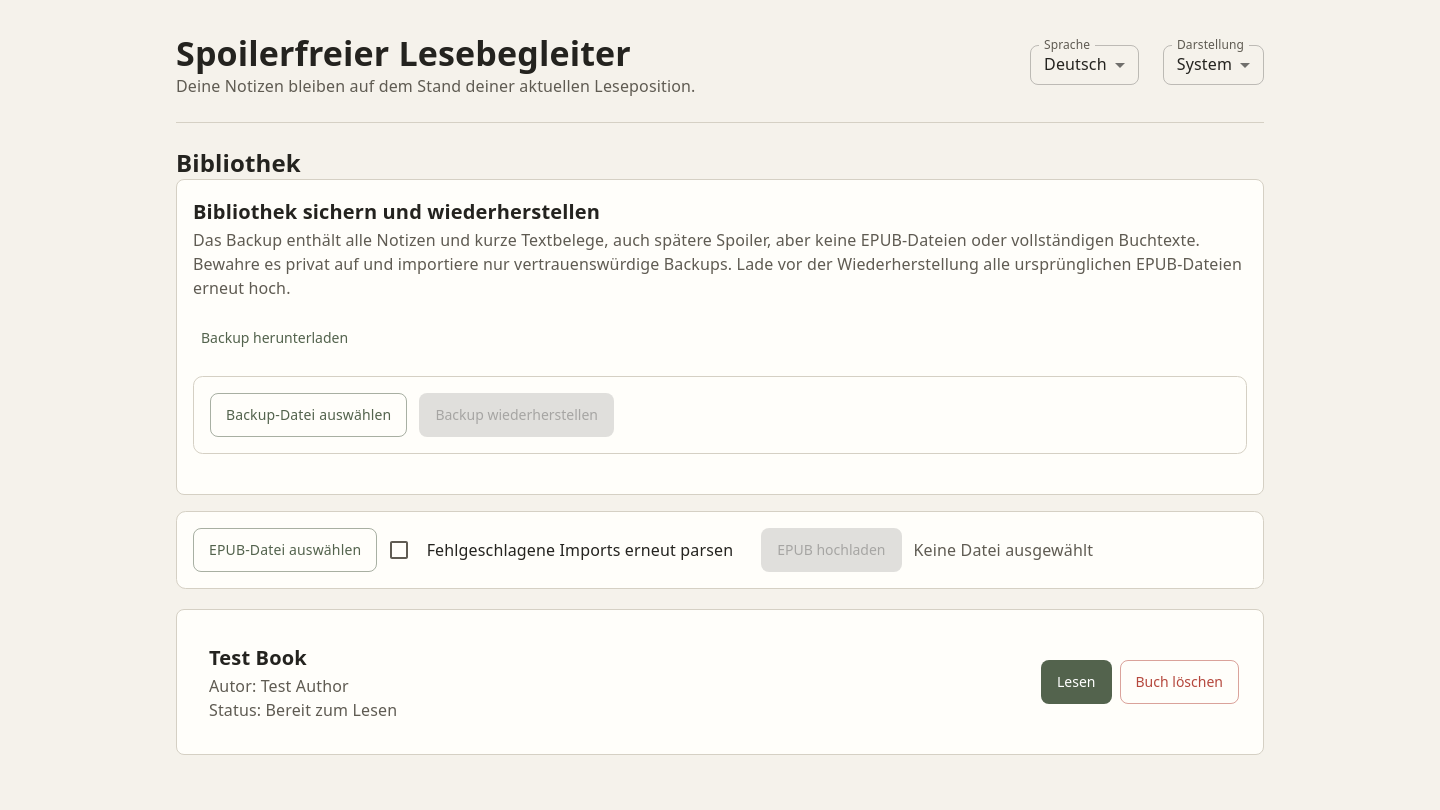
Test: App › keeps the existing library visible when a refresh fails and retries
Expected: the heading "Test Book" is shown, x1=209 y1=644 x2=307 y2=671
Press the mouse on the dropdown named "Sprache": (1075, 64) x1=1044 y1=54 x2=1107 y2=76
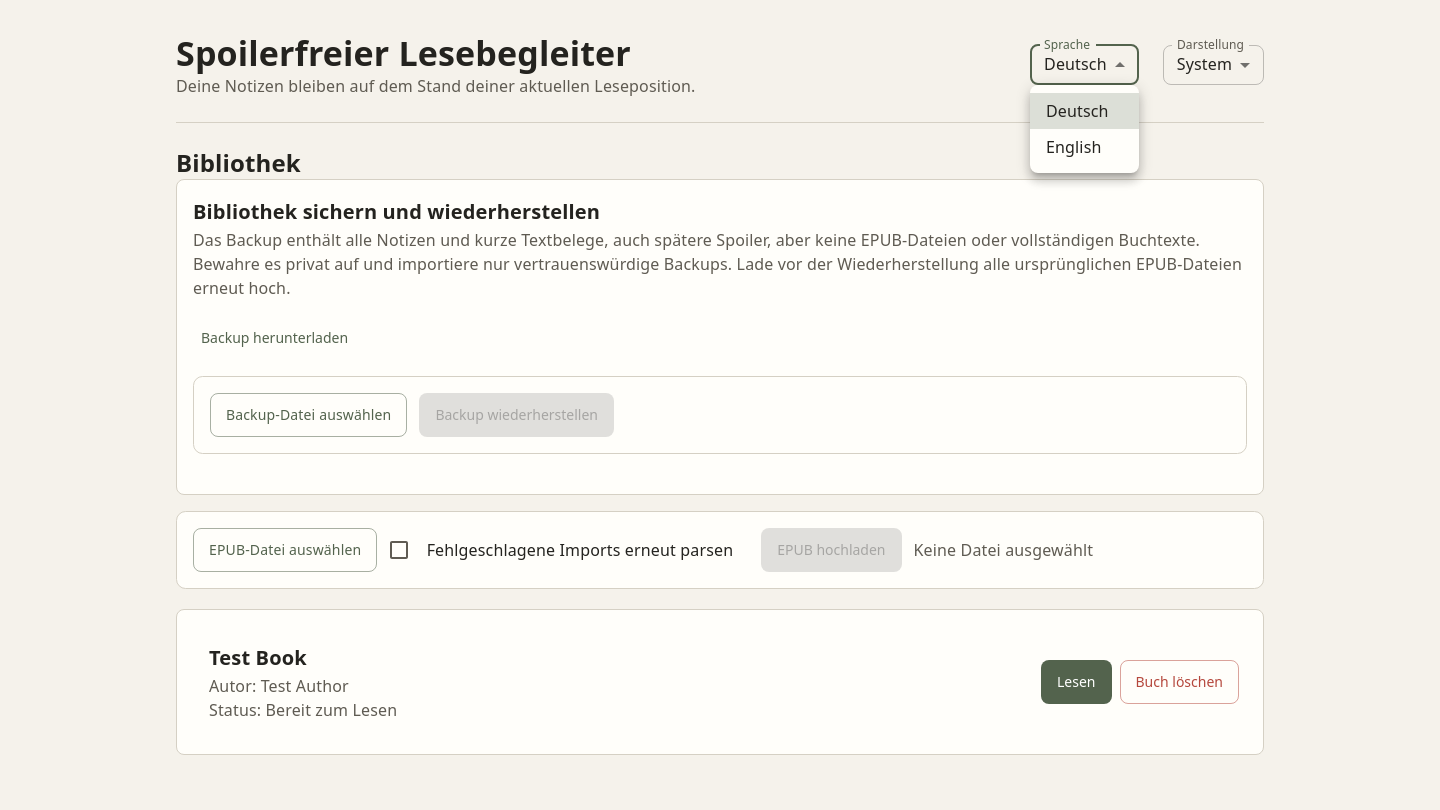
Click the option "English": (1074, 147) x1=1046 y1=136 x2=1102 y2=158
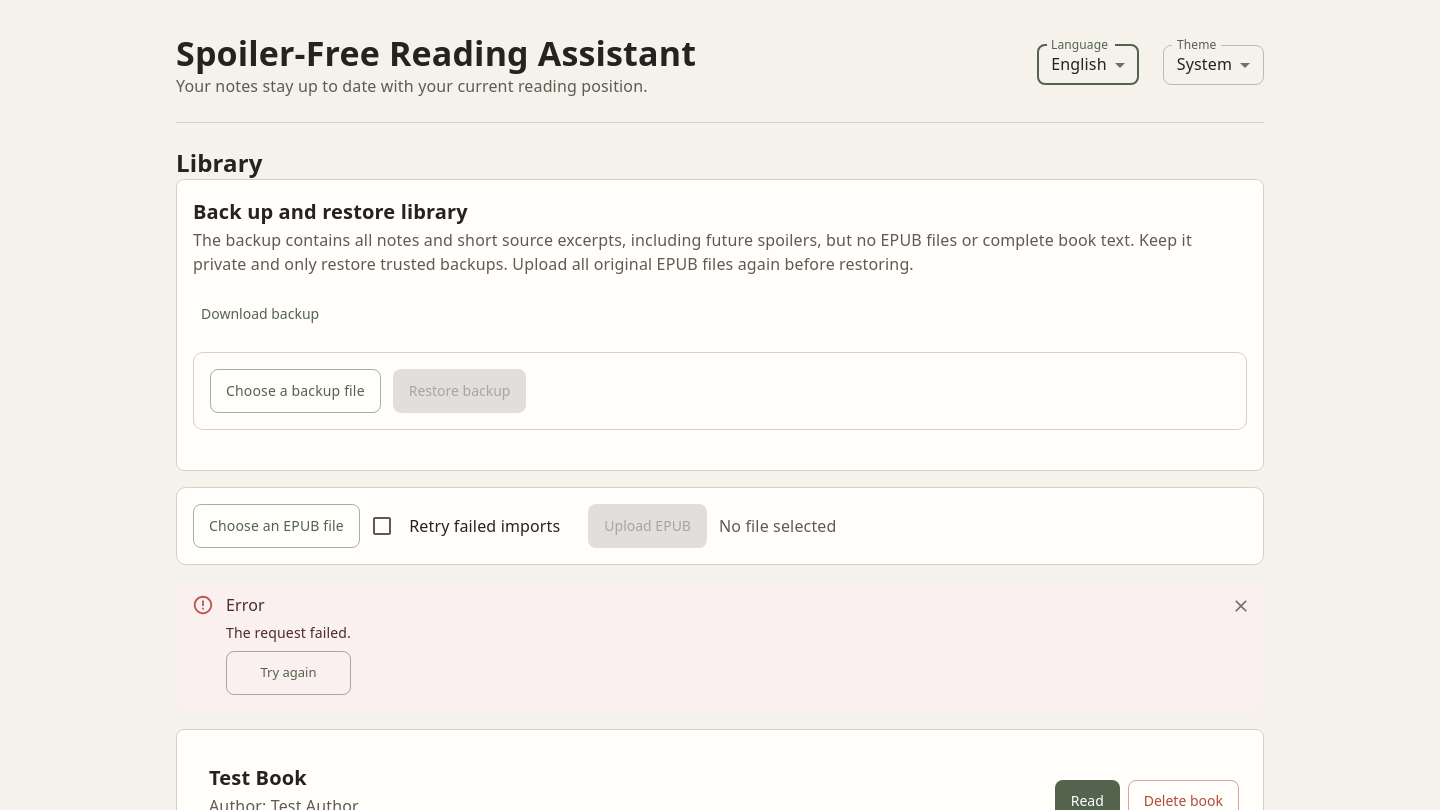
Expected: the heading "Test Book" is shown, x1=209 y1=764 x2=307 y2=791
Expected: the message shows "The request failed.", x1=226 y1=623 x2=351 y2=642
Click the button "Try again": (288, 673) x1=226 y1=651 x2=351 y2=695
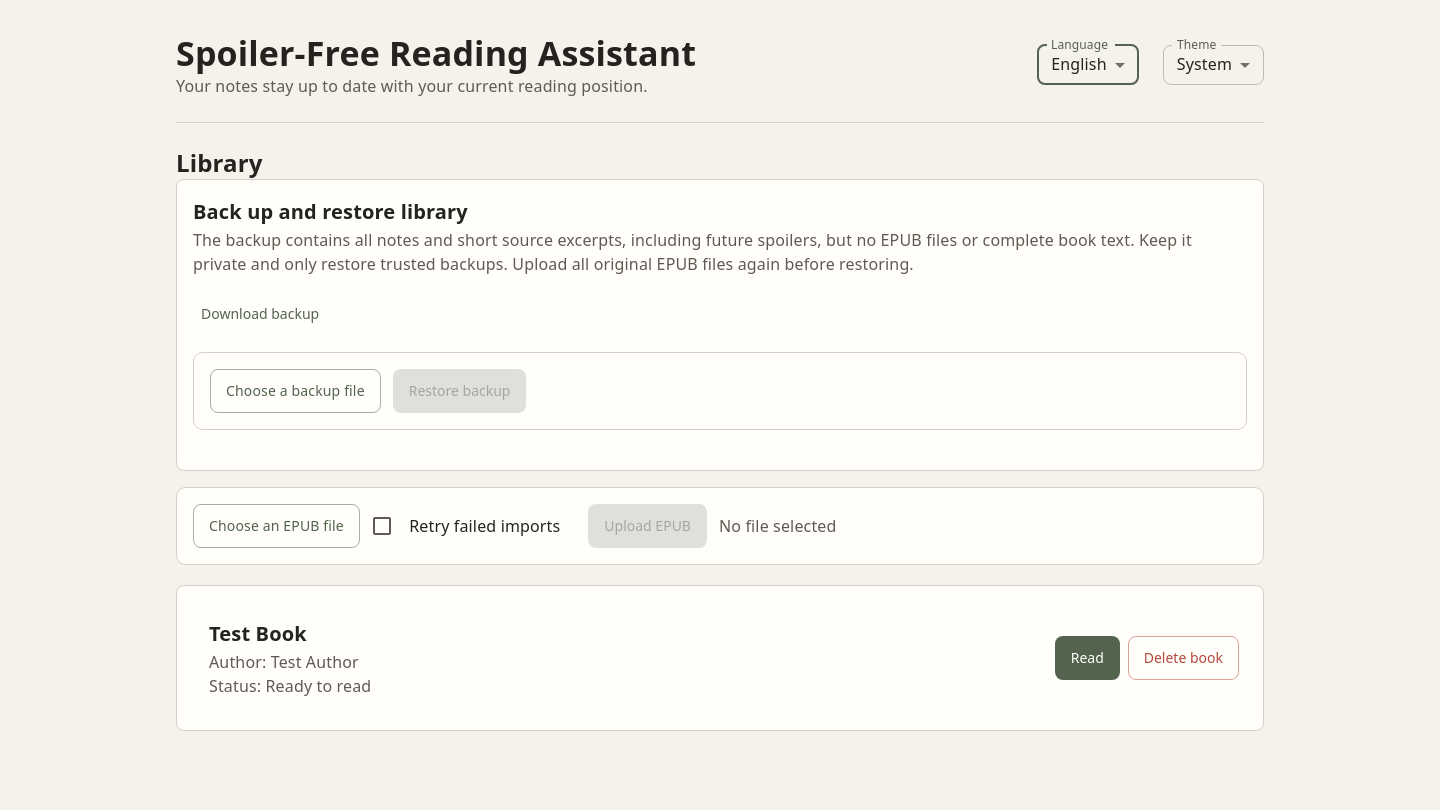
Expected: the heading "Test Book" is shown, x1=209 y1=620 x2=307 y2=647
Expected: the message "Error The request failed. Try again" is gone
